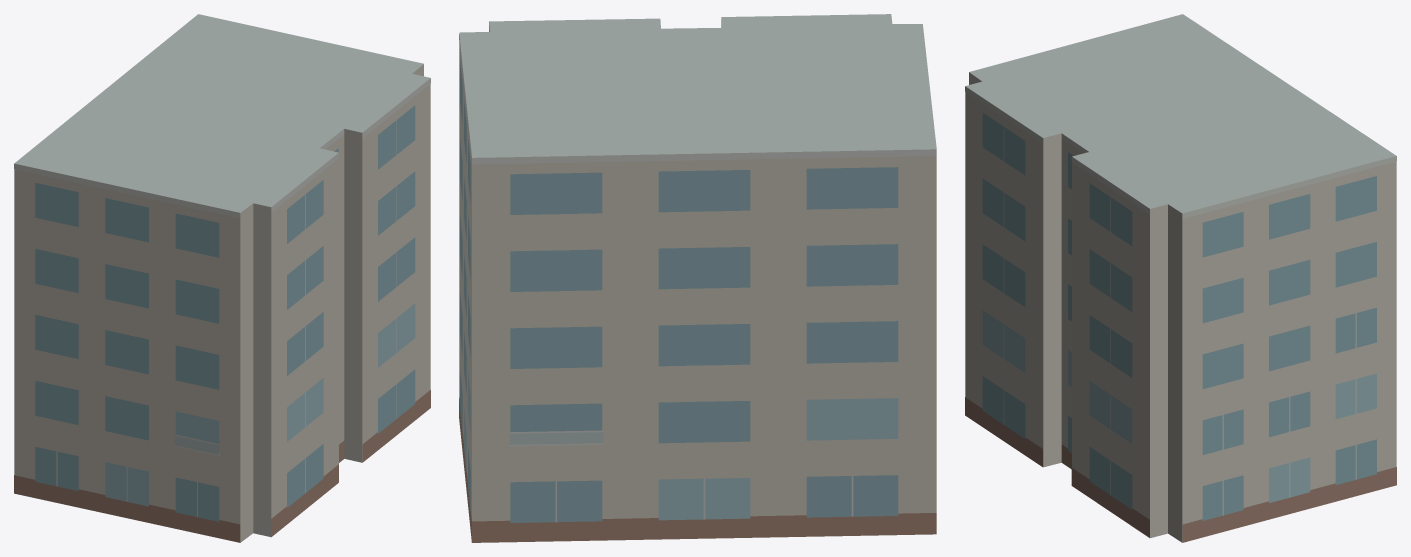
Rendered from survey-upis-32719681.glb.
The picture shows the model from 3 angles, left to right: view 1: azimuth 30°, elevation 25°; view 2: azimuth 150°, elevation 25°; view 3: azimuth 270°, elevation 25°; orthographic projection. The views are drawn at different scales.
Parts seen in each view (by area): view 1: survey-upis-32719681.tmp; view 2: survey-upis-32719681.tmp; view 3: survey-upis-32719681.tmp.
Part boxes in pixels (x1,y1,x2,y2): survey-upis-32719681.tmp: (14, 14, 430, 542); survey-upis-32719681.tmp: (459, 14, 936, 542); survey-upis-32719681.tmp: (965, 14, 1396, 542).
Bounding box in the file's own units: 18.8 × 14.46 × 17.18.
